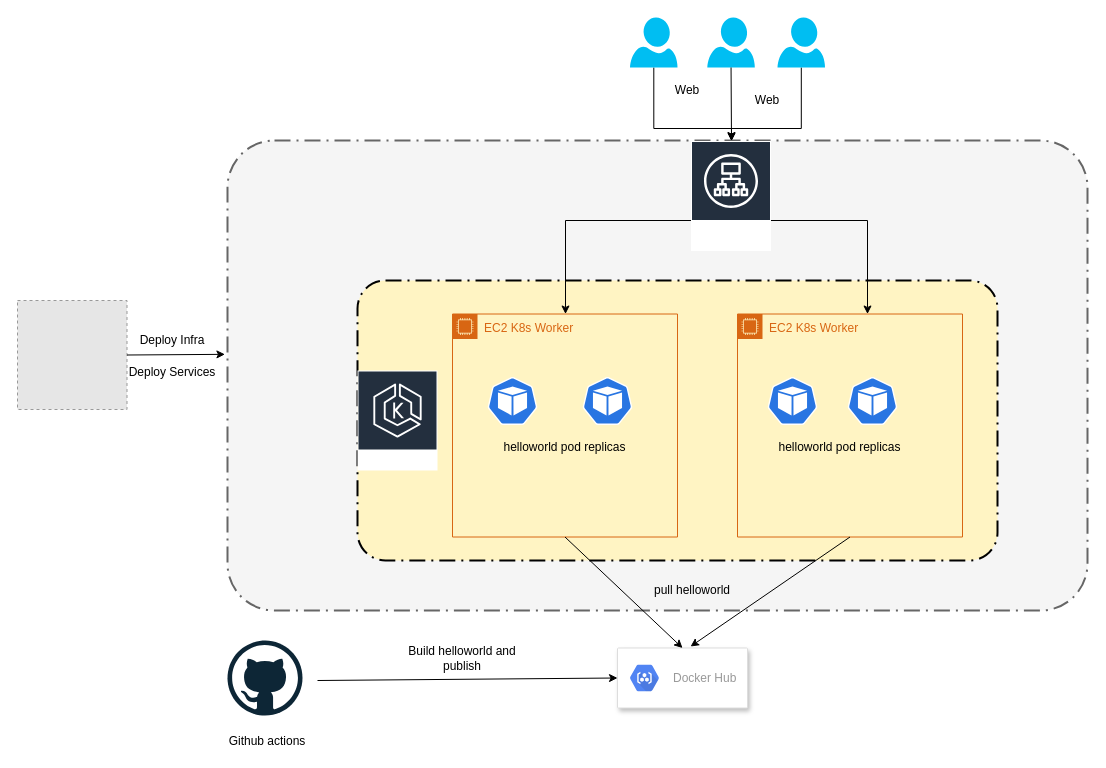
Some shapes in this 1106 by 768 pixel diagram are drawn without their labels. Grey dashed boxes stand in for pictures. The shapes that lost their labels are listed below. From the top down, each one's centre as x and y in pixels, then its label:
At [730,195]: "Application Load Balancer".
At [397,420]: "Amazon EKS".
